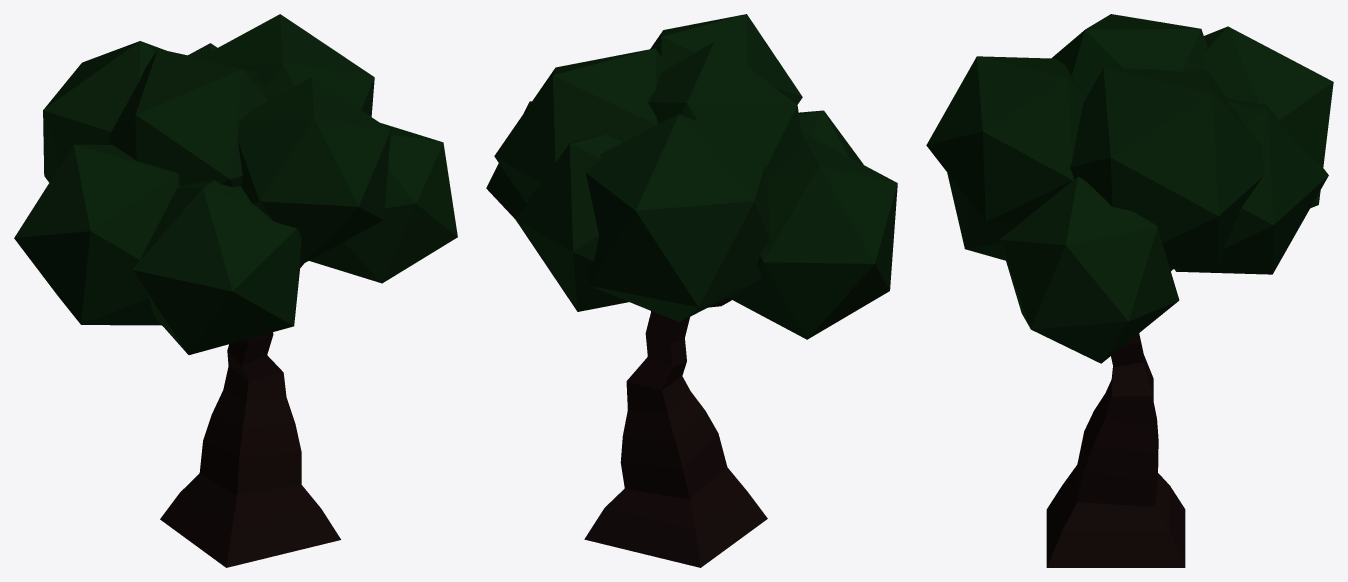
The model's file is tree6.gltf.
The picture shows the model from 3 angles, left to right: view 1: azimuth 30°, elevation 25°; view 2: azimuth 150°, elevation 25°; view 3: azimuth 270°, elevation 25°; orthographic projection. The views are drawn at different scales.
Visible parts, largest first — view 1: tree6; view 2: tree6; view 3: tree6.
Part boxes in pixels (left/top/right/bottom): tree6: left=14, top=14, right=457, bottom=567; tree6: left=486, top=14, right=897, bottom=567; tree6: left=926, top=14, right=1333, bottom=567.
Bounding box in the file's own units: 6.23 × 7.13 × 5.29.
2 materials, 2 textured.
